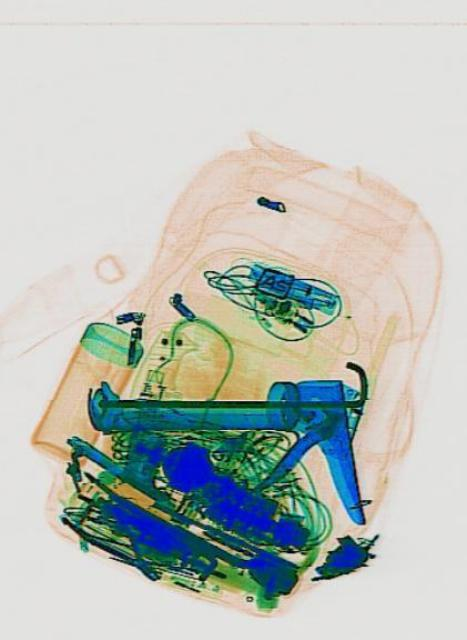Pliers: (57, 482, 165, 596)
